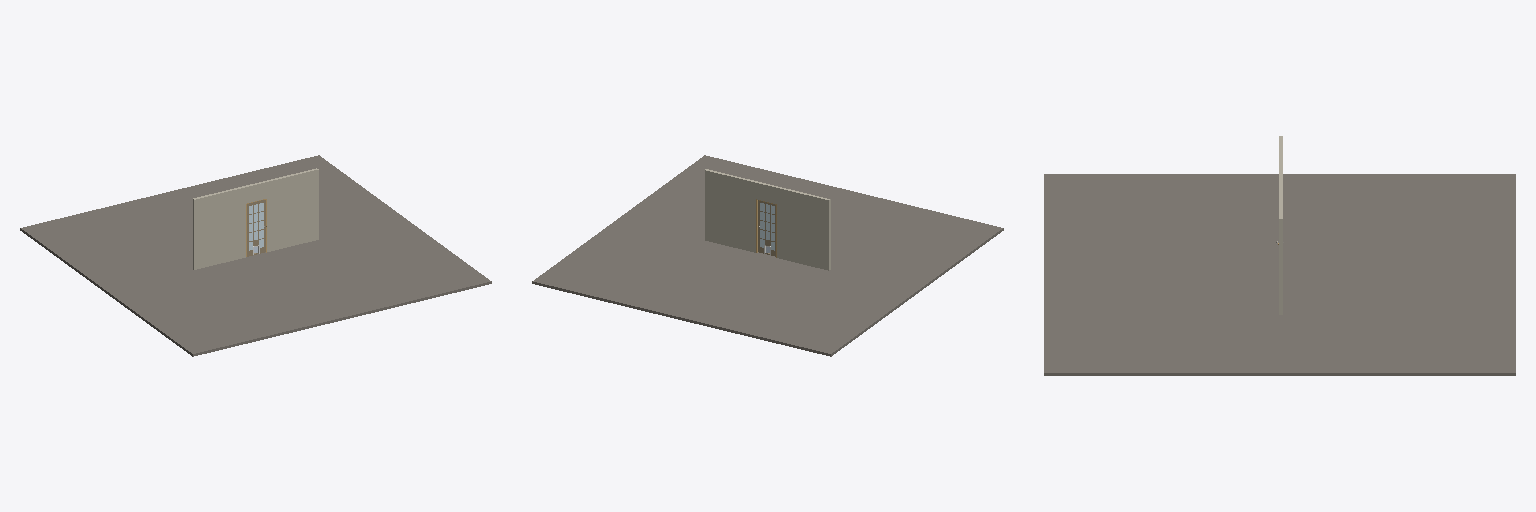
The robot description file, URDF, robot "db0885_swing_single_simple":
<?xml version="1.0" ?>
<robot xmlns:doorbench="https://github.com/adamraudonis/DoorBench/schema/urdf-ext" name="db0885_swing_single_simple">
  <link name="world_env">
    <visual name="floor_vis">
      <origin xyz="0 0 -0.05" rpy="0 0 0"/>
      <geometry>
        <box size="12 12 0.1"/>
      </geometry>
      <material name="mat_floor"/>
    </visual>
    <collision name="floor_col">
      <origin xyz="0 0 -0.05" rpy="0 0 0"/>
      <geometry>
        <box size="12 12 0.1"/>
      </geometry>
    </collision>
    <visual name="wall_left_vis">
      <origin xyz="-1.45175 0.0305 1.35" rpy="0 0 0"/>
      <geometry>
        <box size="2.0965 0.115 2.7"/>
      </geometry>
      <material name="mat_wall"/>
    </visual>
    <collision name="wall_left_col">
      <origin xyz="-1.45175 0.0305 1.35" rpy="0 0 0"/>
      <geometry>
        <box size="2.0965 0.115 2.7"/>
      </geometry>
    </collision>
    <visual name="wall_right_vis">
      <origin xyz="1.46675 0.0305 1.35" rpy="0 0 0"/>
      <geometry>
        <box size="2.0665 0.115 2.7"/>
      </geometry>
      <material name="mat_wall"/>
    </visual>
    <collision name="wall_right_col">
      <origin xyz="1.46675 0.0305 1.35" rpy="0 0 0"/>
      <geometry>
        <box size="2.0665 0.115 2.7"/>
      </geometry>
    </collision>
    <visual name="wall_header_vis">
      <origin xyz="0.015 0.0305 2.397" rpy="0 0 0"/>
      <geometry>
        <box size="0.837 0.115 0.606"/>
      </geometry>
      <material name="mat_wall"/>
    </visual>
    <collision name="wall_header_col">
      <origin xyz="0.015 0.0305 2.397" rpy="0 0 0"/>
      <geometry>
        <box size="0.837 0.115 0.606"/>
      </geometry>
    </collision>
    <visual name="hinge_0_jamb_vis">
      <origin xyz="-0.3815 -0.027 0.259" rpy="0 0 0"/>
      <geometry>
        <mesh filename="../../hardware/hinge_jamb_50e97ebc96.obj"/>
      </geometry>
      <material name="mat_hinge"/>
    </visual>
    <visual name="hinge_1_jamb_vis">
      <origin xyz="-0.3815 -0.027 1.025" rpy="0 0 0"/>
      <geometry>
        <mesh filename="../../hardware/hinge_jamb_50e97ebc96.obj"/>
      </geometry>
      <material name="mat_hinge"/>
    </visual>
    <visual name="hinge_2_jamb_vis">
      <origin xyz="-0.3815 -0.027 1.861" rpy="0 0 0"/>
      <geometry>
        <mesh filename="../../hardware/hinge_jamb_50e97ebc96.obj"/>
      </geometry>
      <material name="mat_hinge"/>
    </visual>
    <visual name="jamb_hinge_vis">
      <origin xyz="-0.394 0.0305 1.0225" rpy="0 0 0"/>
      <geometry>
        <box size="0.019 0.115 2.045"/>
      </geometry>
      <material name="mat_frame"/>
    </visual>
    <collision name="jamb_hinge_col">
      <origin xyz="-0.394 0.0305 1.0225" rpy="0 0 0"/>
      <geometry>
        <box size="0.019 0.115 2.045"/>
      </geometry>
    </collision>
    <visual name="strike_1016_wall_n_vis">
      <origin xyz="0.409 0.047925 1.016" rpy="0 0 0"/>
      <geometry>
        <box size="0.049 0.08015 0.0334"/>
      </geometry>
      <material name="mat_frame"/>
    </visual>
    <collision name="strike_1016_wall_n_col">
      <origin xyz="0.409 0.047925 1.016" rpy="0 0 0"/>
      <geometry>
        <box size="0.049 0.08015 0.0334"/>
      </geometry>
    </collision>
    <visual name="strike_1016_wall_p_vis">
      <origin xyz="0.409 -0.01585 1.016" rpy="0 0 0"/>
      <geometry>
        <box size="0.049 0.016 0.0334"/>
      </geometry>
      <material name="mat_frame"/>
    </visual>
    <collision name="strike_1016_wall_p_col">
      <origin xyz="0.409 -0.01585 1.016" rpy="0 0 0"/>
      <geometry>
        <box size="0.049 0.016 0.0334"/>
      </geometry>
    </collision>
    <visual name="strike_1016_ramp_vis">
      <origin xyz="0.413636 -0.028673 1.016" rpy="0 0 0.428384"/>
      <geometry>
        <box size="0.049 0.03298 0.0334"/>
      </geometry>
      <material name="mat_frame"/>
    </visual>
    <collision name="strike_1016_ramp_col">
      <origin xyz="0.413636 -0.028673 1.016" rpy="0 0 0.428384"/>
      <geometry>
        <box size="0.049 0.03298 0.0334"/>
      </geometry>
    </collision>
    <visual name="strike_1016_back_vis">
      <origin xyz="0.41735 0 1.016" rpy="0 0 0"/>
      <geometry>
        <box size="0.0323 0.0157 0.0334"/>
      </geometry>
      <material name="mat_frame"/>
    </visual>
    <collision name="strike_1016_back_col">
      <origin xyz="0.41735 0 1.016" rpy="0 0 0"/>
      <geometry>
        <box size="0.0323 0.0157 0.0334"/>
      </geometry>
    </collision>
    <visual name="jamb_strike_0_vis">
      <origin xyz="0.409 0.0305 0.49965" rpy="0 0 0"/>
      <geometry>
        <box size="0.049 0.115 0.9993"/>
      </geometry>
      <material name="mat_frame"/>
    </visual>
    <collision name="jamb_strike_0_col">
      <origin xyz="0.409 0.0305 0.49965" rpy="0 0 0"/>
      <geometry>
        <box size="0.049 0.115 0.9993"/>
      </geometry>
    </collision>
    <visual name="jamb_strike_1_vis">
      <origin xyz="0.409 0.0305 1.53885" rpy="0 0 0"/>
      <geometry>
        <box size="0.049 0.115 1.0123"/>
      </geometry>
      <material name="mat_frame"/>
    </visual>
    <collision name="jamb_strike_1_col">
      <origin xyz="0.409 0.0305 1.53885" rpy="0 0 0"/>
      <geometry>
        <box size="0.049 0.115 1.0123"/>
      </geometry>
    </collision>
    <visual name="jamb_head_vis">
      <origin xyz="0.015 0.0305 2.0545" rpy="0 0 0"/>
      <geometry>
        <box size="0.837 0.115 0.019"/>
      </geometry>
      <material name="mat_frame"/>
    </visual>
    <collision name="jamb_head_col">
      <origin xyz="0.015 0.0305 2.0545" rpy="0 0 0"/>
      <geometry>
        <box size="0.837 0.115 0.019"/>
      </geometry>
    </collision>
    <visual name="head_stud_vis">
      <origin xyz="0.015 0.0305 2.079" rpy="0 0 0"/>
      <geometry>
        <box size="0.837 0.115 0.03"/>
      </geometry>
      <material name="mat_wall"/>
    </visual>
    <collision name="head_stud_col">
      <origin xyz="0.015 0.0305 2.079" rpy="0 0 0"/>
      <geometry>
        <box size="0.837 0.115 0.03"/>
      </geometry>
    </collision>
    <visual name="stop_hinge_vis">
      <origin xyz="-0.379 0.0365 1.0225" rpy="0 0 0"/>
      <geometry>
        <box size="0.011 0.032 2.045"/>
      </geometry>
      <material name="mat_frame"/>
    </visual>
    <collision name="stop_hinge_col">
      <origin xyz="-0.379 0.0365 1.0225" rpy="0 0 0"/>
      <geometry>
        <box size="0.011 0.032 2.045"/>
      </geometry>
    </collision>
    <visual name="stop_strike_vis">
      <origin xyz="0.379 0.0365 1.0225" rpy="0 0 0"/>
      <geometry>
        <box size="0.011 0.032 2.045"/>
      </geometry>
      <material name="mat_frame"/>
    </visual>
    <collision name="stop_strike_col">
      <origin xyz="0.379 0.0365 1.0225" rpy="0 0 0"/>
      <geometry>
        <box size="0.011 0.032 2.045"/>
      </geometry>
    </collision>
    <visual name="stop_head_vis">
      <origin xyz="0 0.0365 2.0395" rpy="0 0 0"/>
      <geometry>
        <box size="0.769 0.032 0.011"/>
      </geometry>
      <material name="mat_frame"/>
    </visual>
    <collision name="stop_head_col">
      <origin xyz="0 0.0365 2.0395" rpy="0 0 0"/>
      <geometry>
        <box size="0.769 0.032 0.011"/>
      </geometry>
    </collision>
    <visual name="seal_hinge_vis">
      <origin xyz="-0.3815 0.0215 1.0225" rpy="0 0 0"/>
      <geometry>
        <box size="0.008 0.003 2.045"/>
      </geometry>
      <material name="mat_seal"/>
    </visual>
    <visual name="seal_strike_vis">
      <origin xyz="0.3815 0.0215 1.0225" rpy="0 0 0"/>
      <geometry>
        <box size="0.008 0.003 2.045"/>
      </geometry>
      <material name="mat_seal"/>
    </visual>
    <visual name="seal_head_vis">
      <origin xyz="0 0.0215 2.033" rpy="0 0 0"/>
      <geometry>
        <box size="0.729 0.003 0.016"/>
      </geometry>
      <material name="mat_seal"/>
    </visual>
  </link>
  <link name="leaf">
    <inertial>
      <origin xyz="0.372536 0.026465 0.917165" rpy="0 0 0"/>
      <mass value="26.102148"/>
      <inertia ixx="9.776445919" ixy="-0.005204716" ixz="0.029284554" iyy="10.962455998" iyz="0.001831285" izz="1.194269148"/>
    </inertial>
    <visual name="leaf_slab_below_vis">
      <origin xyz="0.381 0.027 0.0335" rpy="0 0 0"/>
      <geometry>
        <box size="0.762 0.04 0.049"/>
      </geometry>
      <material name="mat_leaf"/>
    </visual>
    <collision name="leaf_slab_below_col">
      <origin xyz="0.381 0.027 0.0335" rpy="0 0 0"/>
      <geometry>
        <box size="0.762 0.04 0.049"/>
      </geometry>
    </collision>
    <visual name="leaf_slab_above_vis">
      <origin xyz="0.381 0.027 1.1755" rpy="0 0 0"/>
      <geometry>
        <box size="0.762 0.04 1.731"/>
      </geometry>
      <material name="mat_leaf"/>
    </visual>
    <collision name="leaf_slab_above_col">
      <origin xyz="0.381 0.027 1.1755" rpy="0 0 0"/>
      <geometry>
        <box size="0.762 0.04 1.731"/>
      </geometry>
    </collision>
    <visual name="leaf_slab_left_vis">
      <origin xyz="0.145 0.027 0.184" rpy="0 0 0"/>
      <geometry>
        <box size="0.29 0.04 0.252"/>
      </geometry>
      <material name="mat_leaf"/>
    </visual>
    <collision name="leaf_slab_left_col">
      <origin xyz="0.145 0.027 0.184" rpy="0 0 0"/>
      <geometry>
        <box size="0.29 0.04 0.252"/>
      </geometry>
    </collision>
    <visual name="leaf_slab_right_vis">
      <origin xyz="0.617 0.027 0.184" rpy="0 0 0"/>
      <geometry>
        <box size="0.29 0.04 0.252"/>
      </geometry>
      <material name="mat_leaf"/>
    </visual>
    <collision name="leaf_slab_right_col">
      <origin xyz="0.617 0.027 0.184" rpy="0 0 0"/>
      <geometry>
        <box size="0.29 0.04 0.252"/>
      </geometry>
    </collision>
    <visual name="leaf_glass_0_vis">
      <origin xyz="0.177 0.027 0.391208" rpy="0 0 0"/>
      <geometry>
        <box size="0.174 0.0416 0.317376"/>
      </geometry>
      <material name="mat_glass"/>
    </visual>
    <visual name="leaf_glass_2_vis">
      <origin xyz="0.585 0.027 0.391208" rpy="0 0 0"/>
      <geometry>
        <box size="0.174 0.0416 0.317376"/>
      </geometry>
      <material name="mat_glass"/>
    </visual>
    <visual name="leaf_glass_3_vis">
      <origin xyz="0.177 0.027 0.738584" rpy="0 0 0"/>
      <geometry>
        <box size="0.174 0.0416 0.317376"/>
      </geometry>
      <material name="mat_glass"/>
    </visual>
    <visual name="leaf_glass_4_vis">
      <origin xyz="0.381 0.027 0.738584" rpy="0 0 0"/>
      <geometry>
        <box size="0.174 0.0416 0.317376"/>
      </geometry>
      <material name="mat_glass"/>
    </visual>
    <visual name="leaf_glass_5_vis">
      <origin xyz="0.585 0.027 0.738584" rpy="0 0 0"/>
      <geometry>
        <box size="0.174 0.0416 0.317376"/>
      </geometry>
      <material name="mat_glass"/>
    </visual>
    <visual name="leaf_glass_6_vis">
      <origin xyz="0.177 0.027 1.08596" rpy="0 0 0"/>
      <geometry>
        <box size="0.174 0.0416 0.317376"/>
      </geometry>
      <material name="mat_glass"/>
    </visual>
    <visual name="leaf_glass_7_vis">
      <origin xyz="0.381 0.027 1.08596" rpy="0 0 0"/>
      <geometry>
        <box size="0.174 0.0416 0.317376"/>
      </geometry>
      <material name="mat_glass"/>
    </visual>
    <visual name="leaf_glass_8_vis">
      <origin xyz="0.585 0.027 1.08596" rpy="0 0 0"/>
      <geometry>
        <box size="0.174 0.0416 0.317376"/>
      </geometry>
      <material name="mat_glass"/>
    </visual>
    <visual name="leaf_glass_9_vis">
      <origin xyz="0.177 0.027 1.433336" rpy="0 0 0"/>
      <geometry>
        <box size="0.174 0.0416 0.317376"/>
      </geometry>
      <material name="mat_glass"/>
    </visual>
    <visual name="leaf_glass_10_vis">
      <origin xyz="0.381 0.027 1.433336" rpy="0 0 0"/>
      <geometry>
        <box size="0.174 0.0416 0.317376"/>
      </geometry>
      <material name="mat_glass"/>
    </visual>
    <visual name="leaf_glass_11_vis">
      <origin xyz="0.585 0.027 1.433336" rpy="0 0 0"/>
      <geometry>
        <box size="0.174 0.0416 0.317376"/>
      </geometry>
      <material name="mat_glass"/>
    </visual>
    <visual name="leaf_glass_12_vis">
      <origin xyz="0.177 0.027 1.780712" rpy="0 0 0"/>
      <geometry>
        <box size="0.174 0.0416 0.317376"/>
      </geometry>
      <material name="mat_glass"/>
    </visual>
    <visual name="leaf_glass_13_vis">
      <origin xyz="0.381 0.027 1.780712" rpy="0 0 0"/>
      <geometry>
        <box size="0.174 0.0416 0.317376"/>
      </geometry>
      <material name="mat_glass"/>
    </visual>
    <visual name="leaf_glass_14_vis">
      <origin xyz="0.585 0.027 1.780712" rpy="0 0 0"/>
      <geometry>
        <box size="0.174 0.0416 0.317376"/>
      </geometry>
      <material name="mat_glass"/>
    </visual>
    <visual name="hinge_0_vis">
      <origin xyz="0 0 0.259" rpy="0 0 0"/>
      <geometry>
        <mesh filename="../../hardware/hinge_9ae1f9b7de.obj"/>
      </geometry>
      <material name="mat_hinge"/>
    </visual>
    <visual name="hinge_1_vis">
      <origin xyz="0 0 1.025" rpy="0 0 0"/>
      <geometry>
        <mesh filename="../../hardware/hinge_9ae1f9b7de.obj"/>
      </geometry>
      <material name="mat_hinge"/>
    </visual>
    <visual name="hinge_2_vis">
      <origin xyz="0 0 1.861" rpy="0 0 0"/>
      <geometry>
        <mesh filename="../../hardware/hinge_9ae1f9b7de.obj"/>
      </geometry>
      <material name="mat_hinge"/>
    </visual>
    <visual name="leaf_latch_bolt_faceplate_vis">
      <origin xyz="0.7614 0.027 1.016" rpy="0 0 0"/>
      <geometry>
        <box size="0.0012 0.0247 0.0534"/>
      </geometry>
      <material name="mat_bolt"/>
    </visual>
    <visual name="pet_frame_top_vis">
      <origin xyz="0.381 0.027 0.329" rpy="0 0 0"/>
      <geometry>
        <box size="0.26 0.052 0.04"/>
      </geometry>
      <material name="mat_petframe"/>
    </visual>
    <visual name="pet_frame_l_vis">
      <origin xyz="0.271 0.027 0.184" rpy="0 0 0"/>
      <geometry>
        <box size="0.04 0.052 0.33"/>
      </geometry>
      <material name="mat_petframe"/>
    </visual>
    <visual name="pet_frame_r_vis">
      <origin xyz="0.491 0.027 0.184" rpy="0 0 0"/>
      <geometry>
        <box size="0.04 0.052 0.33"/>
      </geometry>
      <material name="mat_petframe"/>
    </visual>
  </link>
  <link name="leaf_handle">
    <inertial>
      <origin xyz="0 0.000231 0" rpy="0 0 0"/>
      <mass value="1.101383"/>
      <inertia ixx="0.004021182" ixy="0" ixz="0" iyy="0.000311587" iyz="0" izz="0.004021182"/>
    </inertial>
    <visual name="leaf_handle_knob_n_vis">
      <origin xyz="0 -0.02 0" rpy="1.570796 0 0"/>
      <geometry>
        <mesh filename="../../hardware/knob_d1888f6f03.obj"/>
      </geometry>
      <material name="mat_op_nickel_satin"/>
    </visual>
    <visual name="leaf_handle_knob_col_n_vis">
      <origin xyz="0 -0.0665 0" rpy="0 0 0"/>
      <geometry>
        <sphere radius="0.0243"/>
      </geometry>
      <material name="mat_op_nickel_satin"/>
    </visual>
    <collision name="leaf_handle_knob_col_n_col">
      <origin xyz="0 -0.0665 0" rpy="0 0 0"/>
      <geometry>
        <sphere radius="0.0243"/>
      </geometry>
    </collision>
    <collision name="leaf_handle_knob_neck_n_col">
      <origin xyz="0 -0.032 0" rpy="-1.570796 0 0"/>
      <geometry>
        <cylinder radius="0.011" length="0.024"/>
      </geometry>
    </collision>
    <visual name="leaf_handle_knob_p_vis">
      <origin xyz="0 0.02 0" rpy="-1.570796 0 0"/>
      <geometry>
        <mesh filename="../../hardware/knob_248d825e64.obj"/>
      </geometry>
      <material name="mat_op_nickel_satin"/>
    </visual>
    <visual name="leaf_handle_knob_col_p_vis">
      <origin xyz="0 0.0665 0" rpy="0 0 0"/>
      <geometry>
        <sphere radius="0.0243"/>
      </geometry>
      <material name="mat_op_nickel_satin"/>
    </visual>
    <collision name="leaf_handle_knob_col_p_col">
      <origin xyz="0 0.0665 0" rpy="0 0 0"/>
      <geometry>
        <sphere radius="0.0243"/>
      </geometry>
    </collision>
    <collision name="leaf_handle_knob_neck_p_col">
      <origin xyz="0 0.032 0" rpy="-1.570796 0 0"/>
      <geometry>
        <cylinder radius="0.011" length="0.024"/>
      </geometry>
    </collision>
  </link>
  <link name="leaf_latch_bolt">
    <inertial>
      <origin xyz="-0.00865 0 0" rpy="0 0 0"/>
      <mass value="0.041419"/>
      <inertia ixx="0.000000798" ixy="0" ixz="0" iyy="0.000005598" iyz="0" izz="0.000005598"/>
    </inertial>
    <visual name="leaf_latch_bolt_capsule_vis">
      <origin xyz="-0.00865 0 0" rpy="0 1.570796 0"/>
      <geometry>
        <cylinder radius="0.00635" length="0.03"/>
      </geometry>
      <material name="mat_bolt"/>
    </visual>
    <collision name="leaf_latch_bolt_capsule_col">
      <origin xyz="-0.00865 0 0" rpy="0 1.570796 0"/>
      <geometry>
        <cylinder radius="0.00635" length="0.03"/>
      </geometry>
    </collision>
  </link>
  <link name="pet_flap">
    <inertial>
      <origin xyz="0 0 -0.125" rpy="0 0 0"/>
      <mass value="0.046125"/>
      <inertia ixx="0.000225167" ixy="0" ixz="0" iyy="0.00033882" iyz="0" izz="0.000113775"/>
    </inertial>
    <visual name="pet_flap_geom_vis">
      <origin xyz="0 0 -0.125" rpy="0 0 0"/>
      <geometry>
        <box size="0.172 0.004 0.242"/>
      </geometry>
      <material name="mat_petflap"/>
    </visual>
    <collision name="pet_flap_geom_col">
      <origin xyz="0 0 -0.125" rpy="0 0 0"/>
      <geometry>
        <box size="0.172 0.004 0.242"/>
      </geometry>
    </collision>
  </link>
  <joint name="leaf_hinge" type="revolute">
    <origin xyz="-0.3815 -0.027 0" rpy="0 0 0"/>
    <parent link="world_env"/>
    <child link="leaf"/>
    <axis xyz="0 0 -1"/>
    <limit lower="0" upper="2.356194" effort="2000" velocity="10"/>
    <dynamics damping="0.173726" friction="0.647363"/>
    <doorbench:closer damping_closing="0" damping_opening="0" backcheck_angle="0" backcheck_damping="0"/>
  </joint>
  <joint name="leaf_handle_hinge" type="revolute">
    <origin xyz="0.702 0.027 1.016" rpy="0 0 0"/>
    <parent link="leaf"/>
    <child link="leaf_handle"/>
    <axis xyz="0 -1 0"/>
    <limit lower="0" upper="0.87" effort="2000" velocity="10"/>
    <dynamics damping="0.143614" friction="0.038"/>
    <doorbench:spring stiffness="0.5" springref="-0.5" note="tau = -stiffness*(q - springref); not native URDF"/>
  </joint>
  <joint name="leaf_latch_bolt_slide" type="prismatic">
    <origin xyz="0.762 0.027 1.016" rpy="0 0 0"/>
    <parent link="leaf"/>
    <child link="leaf_latch_bolt"/>
    <axis xyz="-1 0 0"/>
    <limit lower="0" upper="0.0127" effort="5000" velocity="10"/>
    <dynamics damping="2" friction="0.3"/>
    <doorbench:spring stiffness="300" springref="-0.008333" note="tau = -stiffness*(q - springref); not native URDF"/>
    <mimic joint="leaf_handle_hinge" multiplier="0.015679" offset="0"/>
    <doorbench:coupling one_sided="true" note="MJCF uses a one-sided tendon (bolt may retract further, e.g. riding over the strike lip); mimic is bilateral"/>
  </joint>
  <joint name="pet_flap_hinge" type="revolute">
    <origin xyz="0.381 0.027 0.309" rpy="0 0 0"/>
    <parent link="leaf"/>
    <child link="pet_flap"/>
    <axis xyz="1 0 0"/>
    <limit lower="-1.45" upper="1.45" effort="2000" velocity="10"/>
    <dynamics damping="0.02" friction="0.02"/>
  </joint>
  <material name="mat_bolt">
    <color rgba="0.85 0.66 0.3 1"/>
  </material>
  <material name="mat_floor">
    <color rgba="0.55 0.53 0.5 1"/>
  </material>
  <material name="mat_frame">
    <color rgba="0.82 0.7 0.5 1"/>
  </material>
  <material name="mat_glass">
    <color rgba="0.85 0.92 0.95 0.25"/>
  </material>
  <material name="mat_hinge">
    <color rgba="0.65 0.66 0.68 1"/>
  </material>
  <material name="mat_leaf">
    <color rgba="0.66 0.6 0.5 1"/>
  </material>
  <material name="mat_op_nickel_satin">
    <color rgba="0.72 0.7 0.66 1"/>
  </material>
  <material name="mat_petflap">
    <color rgba="0.85 0.9 0.95 0.45"/>
  </material>
  <material name="mat_petframe">
    <color rgba="0.92 0.92 0.9 1"/>
  </material>
  <material name="mat_seal">
    <color rgba="0.1 0.1 0.1 1"/>
  </material>
  <material name="mat_wall">
    <color rgba="0.78 0.76 0.7 1"/>
  </material>
</robot>

--- Render facts (derived) ---
3 views of the same robot in one strip: view 1: azimuth 30°, elevation 25°; view 2: azimuth 150°, elevation 25°; view 3: azimuth 270°, elevation 25° (orthographic).
Robot: db0885_swing_single_simple — 5 links, 4 joints (3 revolute, 1 prismatic); root link world_env; default pose: every joint at zero.
Visible links, largest first — view 1: world_env, leaf; view 2: world_env, leaf; view 3: world_env.
Boxes of the visible links, bbox=[...] form: world_env: bbox=[20, 155, 491, 356]; leaf: bbox=[247, 200, 265, 256]; world_env: bbox=[532, 155, 1003, 356]; leaf: bbox=[758, 200, 775, 256]; world_env: bbox=[1044, 136, 1515, 375].
Size in the robot's own frame: 12 by 12 by 2.8 metres.
8 mesh visuals loaded from 4 distinct referenced files (4 OBJ).
